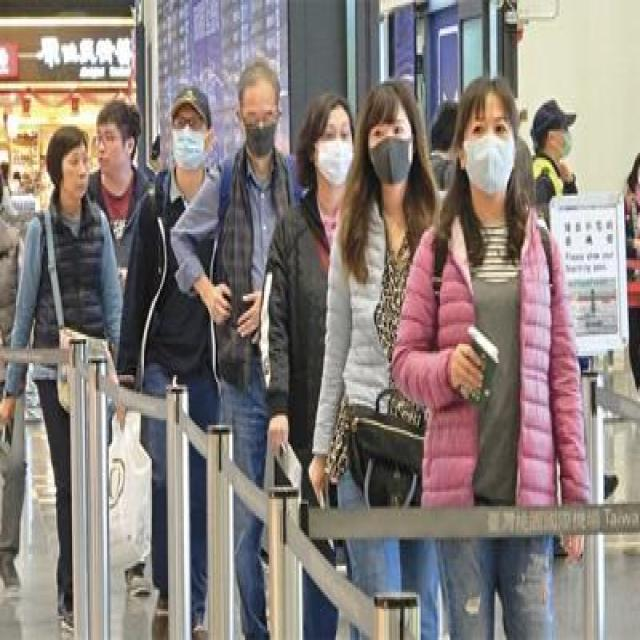with_mask: (465, 111, 516, 197), (367, 116, 414, 187), (315, 116, 353, 187), (171, 111, 206, 170), (241, 108, 279, 161), (555, 121, 574, 157)
without_mask: (62, 149, 91, 199), (94, 128, 119, 176)
